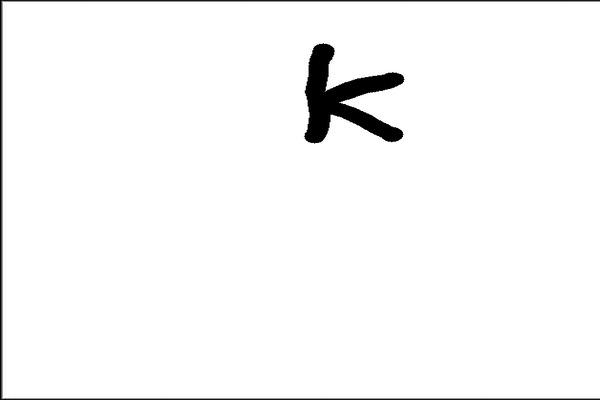K: (297, 35, 412, 150)
